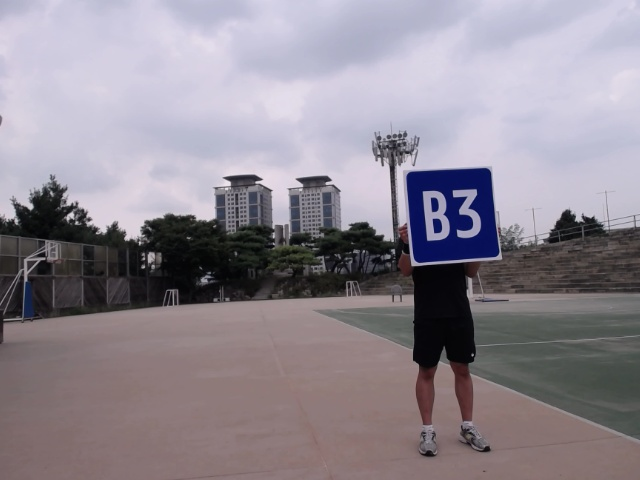delivery_b3: (404, 166, 503, 266)
